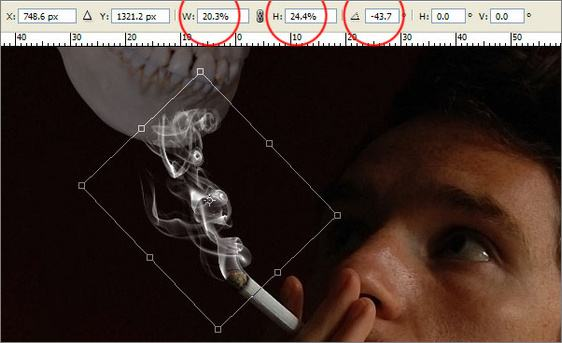yanwu: (151, 109, 244, 264)
